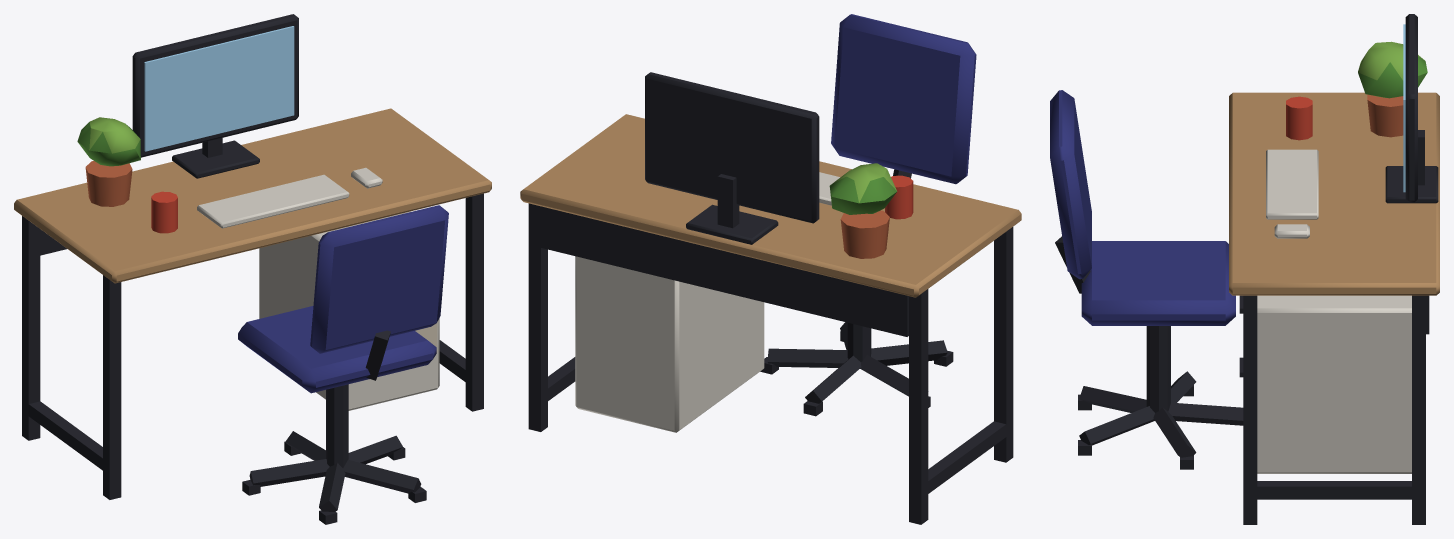
File: seat_desk_v2.glb
3 renders of one model, left to right at view 1: azimuth 30°, elevation 25°; view 2: azimuth 150°, elevation 25°; view 3: azimuth 270°, elevation 25°, orthographic. The views are drawn at different scales.
Parts seen in each view (by area): view 1: body, screen; view 2: body; view 3: body, screen.
Part boxes in pixels (x1=…): body: x1=14, y1=14, x2=491, y2=524; screen: x1=144, y1=26, x2=294, y2=151; body: x1=520, y1=14, x2=1021, y2=524; body: x1=1050, y1=14, x2=1439, y2=524; screen: x1=1403, y1=24, x2=1405, y2=192.
Size of the model in its own units: 1.3 by 1.18 by 1.11.
